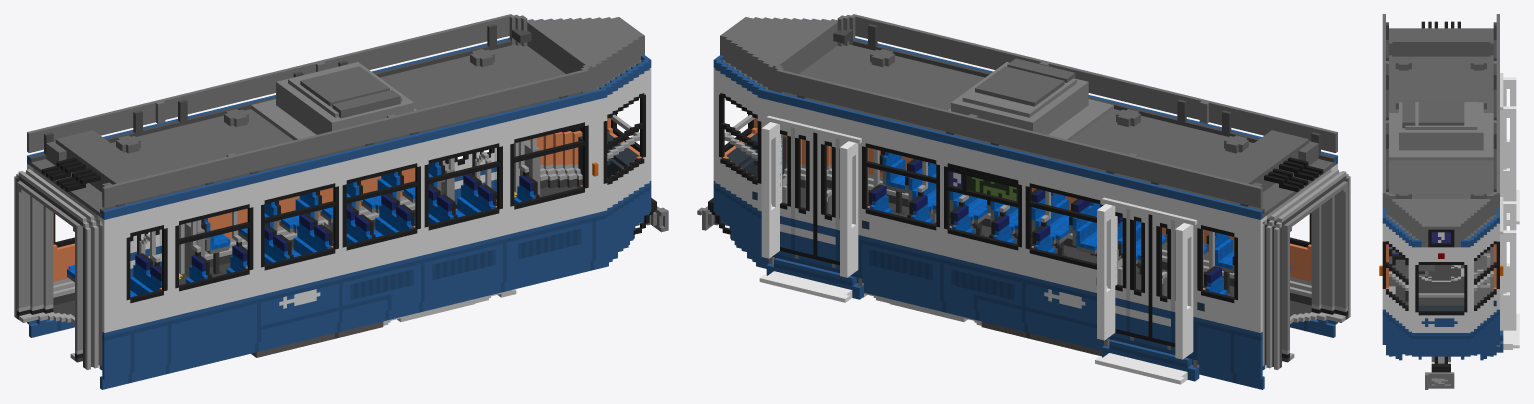
The model's file is tram20002rear.obj.
3 views of the same model, side by side, from view 1: azimuth 30°, elevation 25°; view 2: azimuth 150°, elevation 25°; view 3: azimuth 270°, elevation 25° (orthographic). The views are drawn at different scales.
Visible parts, largest first — view 1: FRAME, closed, BOGEY_REAR; view 2: FRAME, closed, open; view 3: FRAME, open.
Boxes of the visible parts, x1=… form: FRAME: x1=14, y1=14, x2=668, y2=389; closed: x1=130, y1=147, x2=496, y2=277; BOGEY_REAR: x1=383, y1=289, x2=516, y2=322; FRAME: x1=697, y1=14, x2=1350, y2=389; closed: x1=772, y1=124, x2=1193, y2=371; open: x1=759, y1=122, x2=1193, y2=384; FRAME: x1=1379, y1=14, x2=1503, y2=389; open: x1=1500, y1=77, x2=1519, y2=349.
Size of the model in its own units: 10.38 by 3.75 by 2.69.
